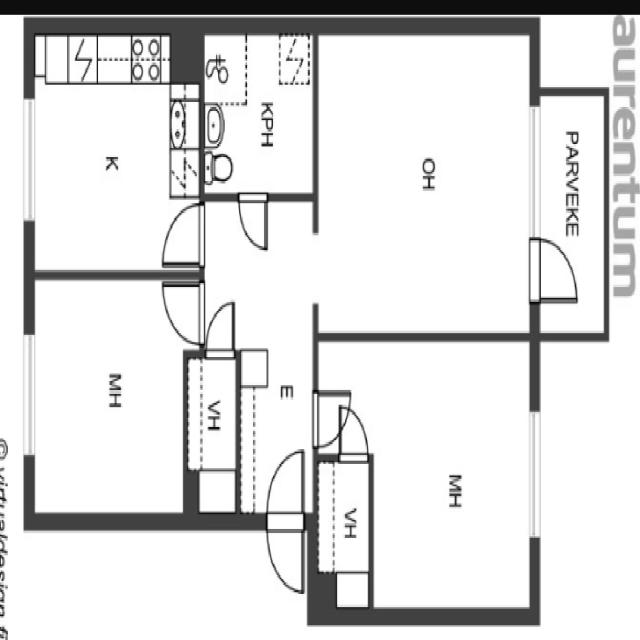door: (262, 444, 307, 596), (526, 232, 584, 305), (157, 197, 207, 269), (157, 275, 205, 347), (308, 389, 354, 457), (235, 186, 272, 256), (203, 294, 240, 360), (337, 403, 372, 462)
window: (524, 97, 548, 246), (17, 323, 41, 464), (18, 90, 40, 230), (525, 401, 546, 544)
zone: (315, 31, 536, 338), (362, 337, 536, 616), (25, 29, 199, 274), (27, 272, 194, 522), (236, 197, 316, 520), (198, 27, 318, 198), (318, 453, 372, 607), (188, 350, 238, 516), (526, 232, 584, 304)
